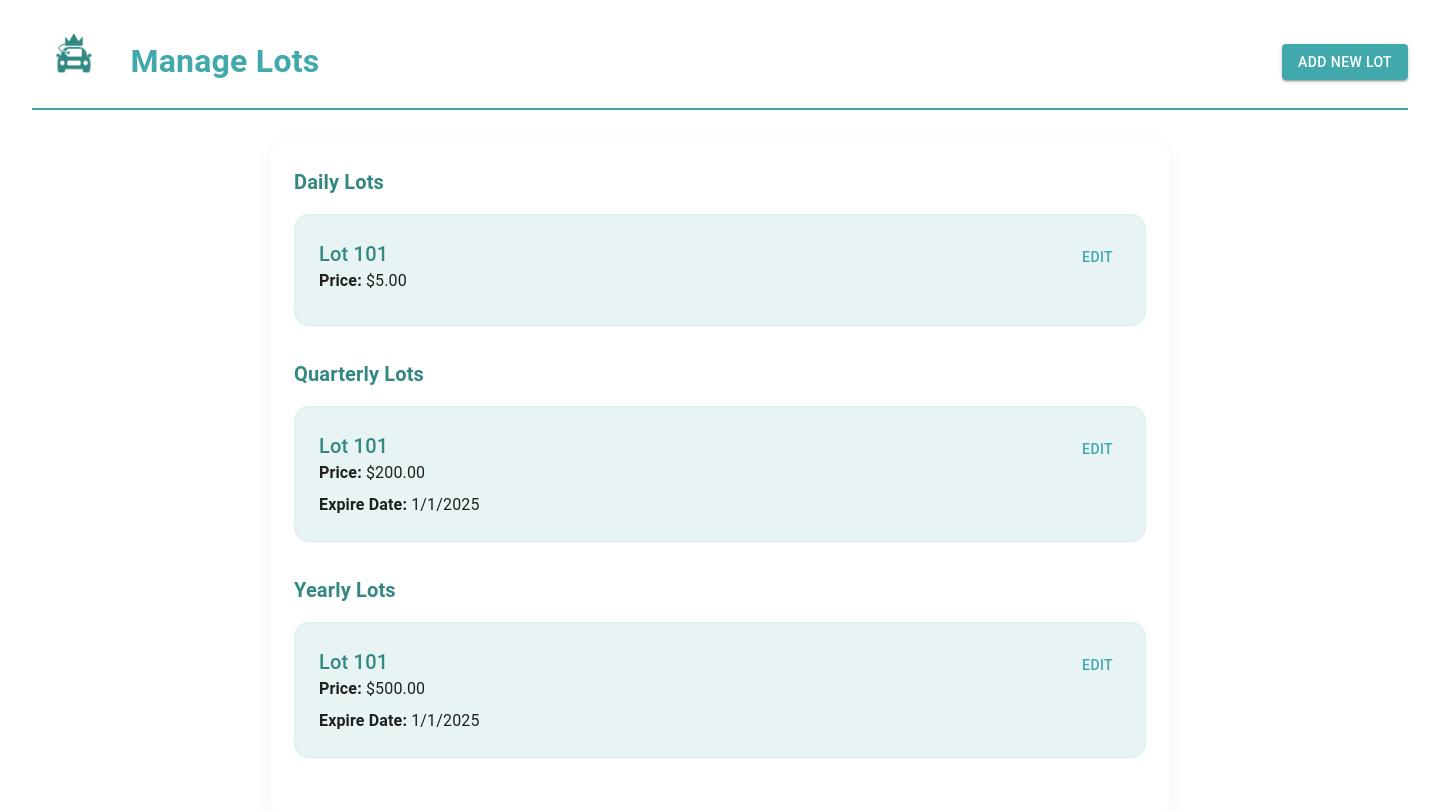
Test case: handles update lot error
Click the button "Edit" in the row of "$5.00": (1098, 257) [1074,239,1121,276]
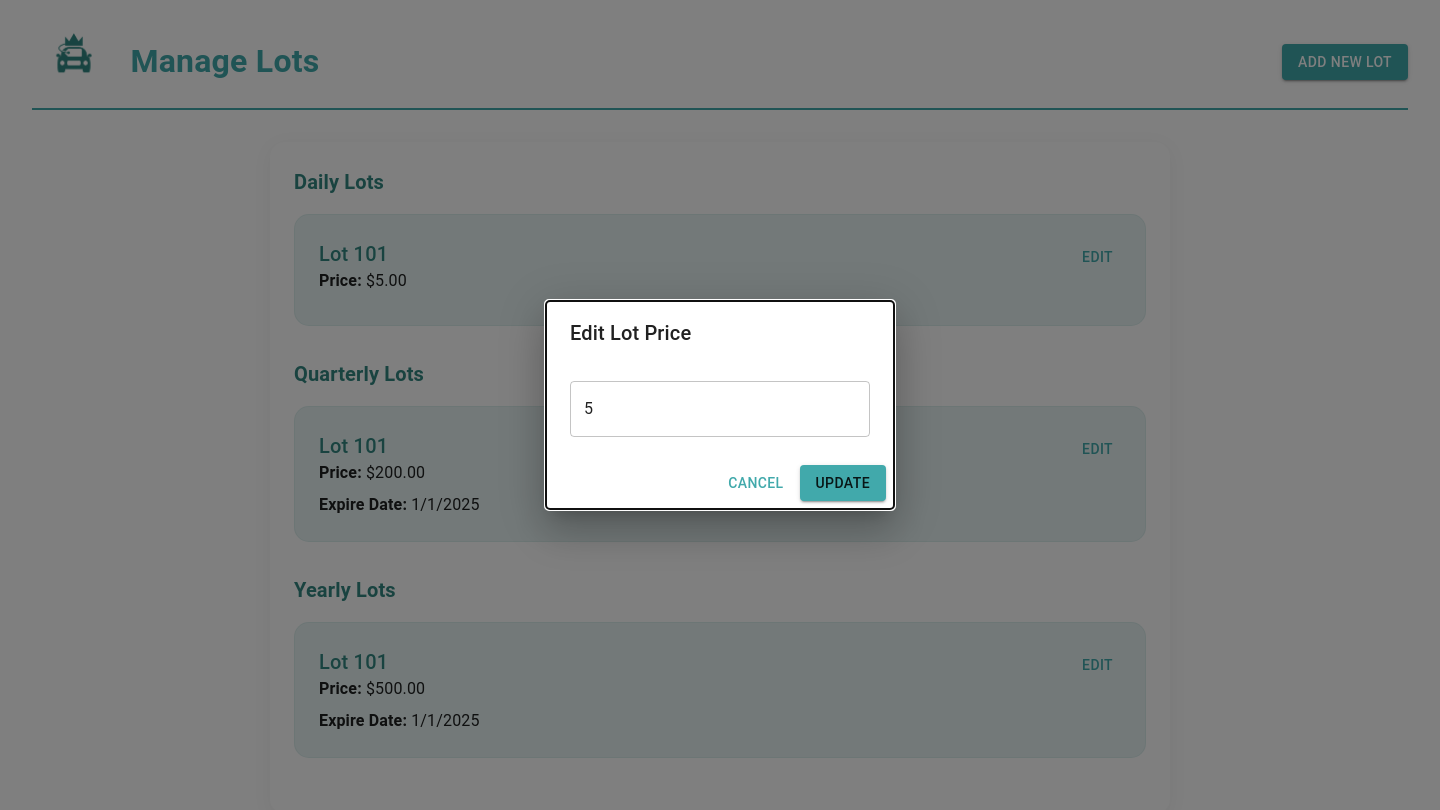
Replace the text in the number field with "6": (720, 409) [570,381,870,437]
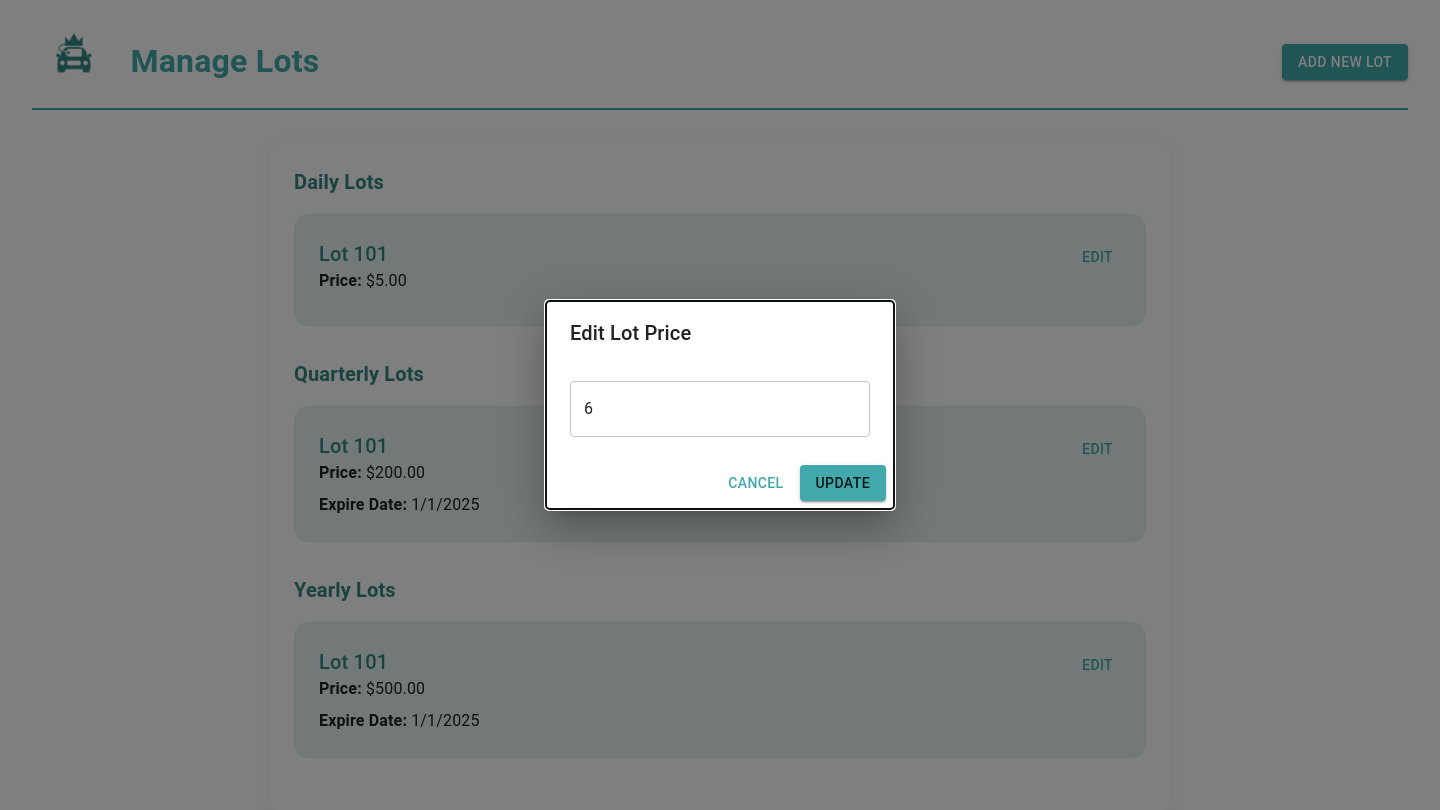
Click the button "Update": (843, 483) [800,465,886,501]
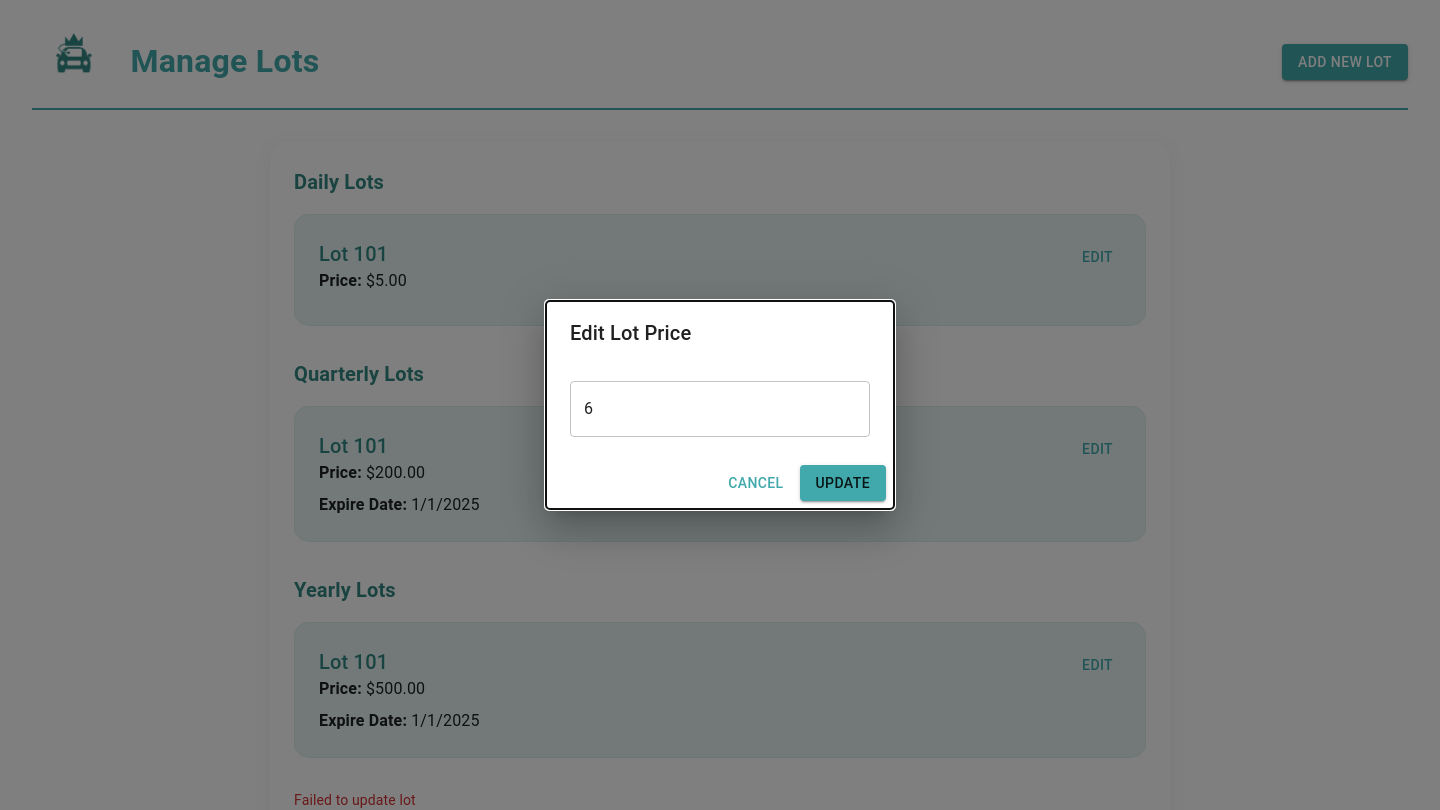
Now the text "Failed to update lot" is shown, box [294,792,416,808]
